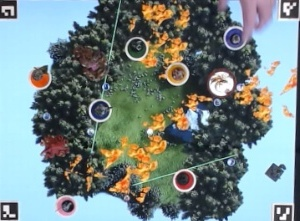blue: (87, 95, 114, 121)
green: (124, 34, 151, 62)
orange: (28, 66, 51, 90)
pink: (55, 193, 81, 218)
red: (171, 165, 197, 192)
violet: (221, 24, 248, 50)
yellow: (164, 59, 191, 85)
